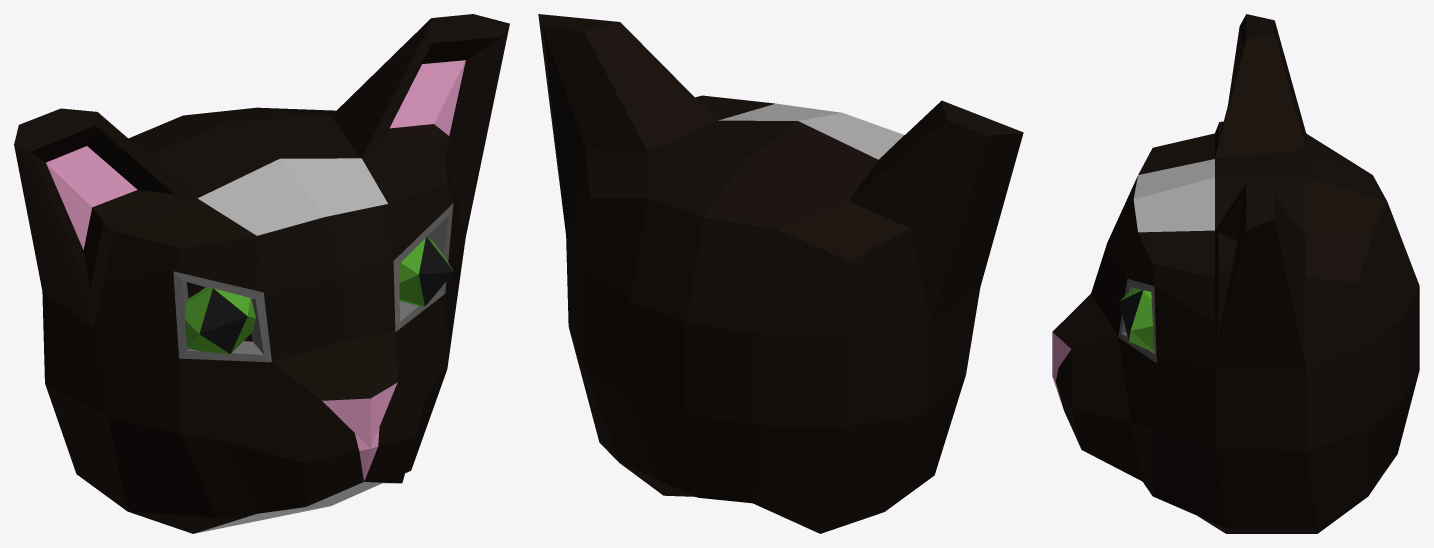
File: kocicka.gltf
3 views of the same model, side by side, from view 1: azimuth 30°, elevation 25°; view 2: azimuth 150°, elevation 25°; view 3: azimuth 270°, elevation 25° (orthographic). The views are drawn at different scales.
Visible parts, largest first — view 1: head, eye2, eye1; view 2: head; view 3: head, eye1.
Part boxes in pixels (x1=…): head: x1=14, y1=14, x2=509, y2=533; eye2: x1=184, y1=287, x2=255, y2=354; eye1: x1=399, y1=237, x2=453, y2=306; head: x1=538, y1=14, x2=1023, y2=533; head: x1=1052, y1=14, x2=1419, y2=533; eye1: x1=1119, y1=288, x2=1154, y2=351.
Bounding box in the file's own units: 3.73 × 3.12 × 2.68.
